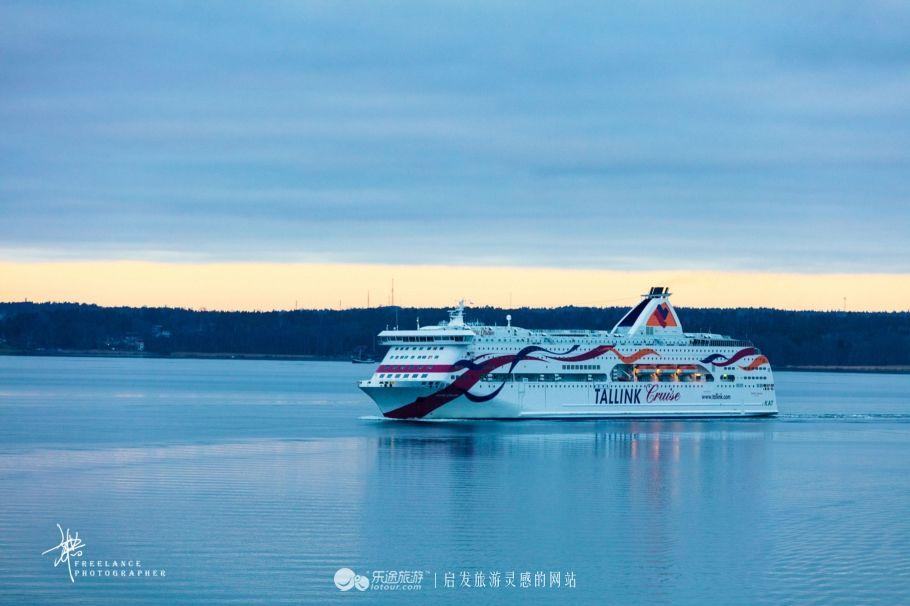youlun: (361, 275, 781, 430)
